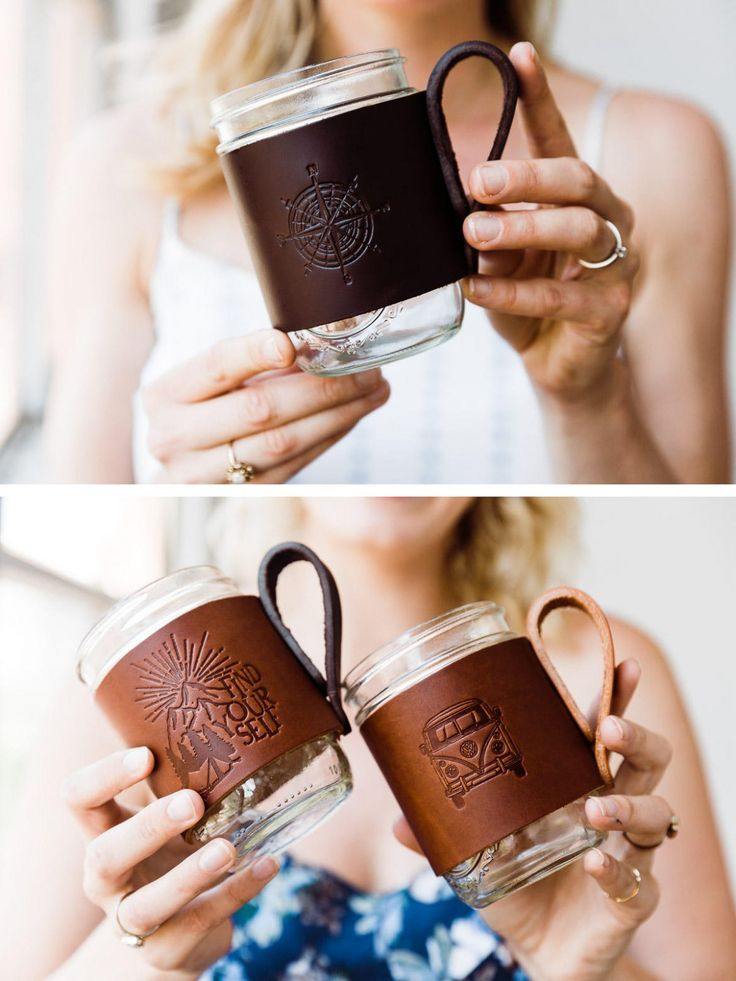cuero: (92, 42, 610, 876)
